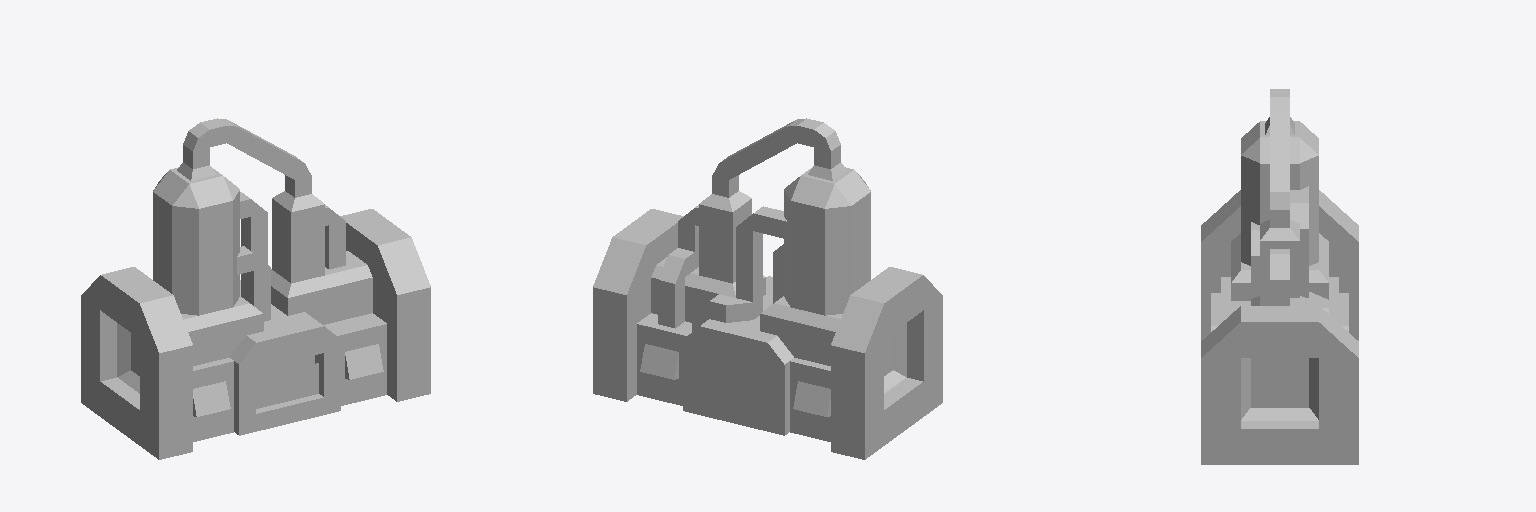
Rendered from distillery_inventory.obj.
3 renders of one model, left to right at view 1: azimuth 30°, elevation 25°; view 2: azimuth 150°, elevation 25°; view 3: azimuth 270°, elevation 25°, orthographic.
Parts seen in each view (by area): view 1: DISTILLERY_BODY_Cube.012, DISTILLERY_GRATING_Cube.020; view 2: DISTILLERY_BODY_Cube.012; view 3: DISTILLERY_BODY_Cube.012.
Boxes of the visible parts, box(x1,y1,x2,y2) form: DISTILLERY_BODY_Cube.012: box(81, 118, 430, 459); DISTILLERY_GRATING_Cube.020: box(256, 363, 318, 408); DISTILLERY_BODY_Cube.012: box(593, 118, 942, 459); DISTILLERY_BODY_Cube.012: box(1201, 89, 1358, 464).
Bounding box in the file's own units: 2 × 2 × 1.